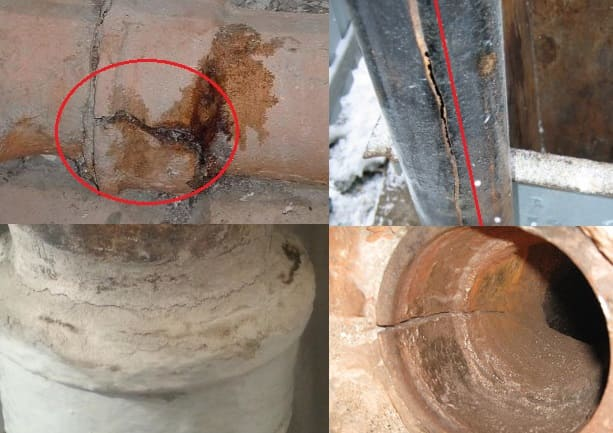crack: (408, 5, 467, 224), (94, 104, 214, 160), (375, 304, 510, 341)
